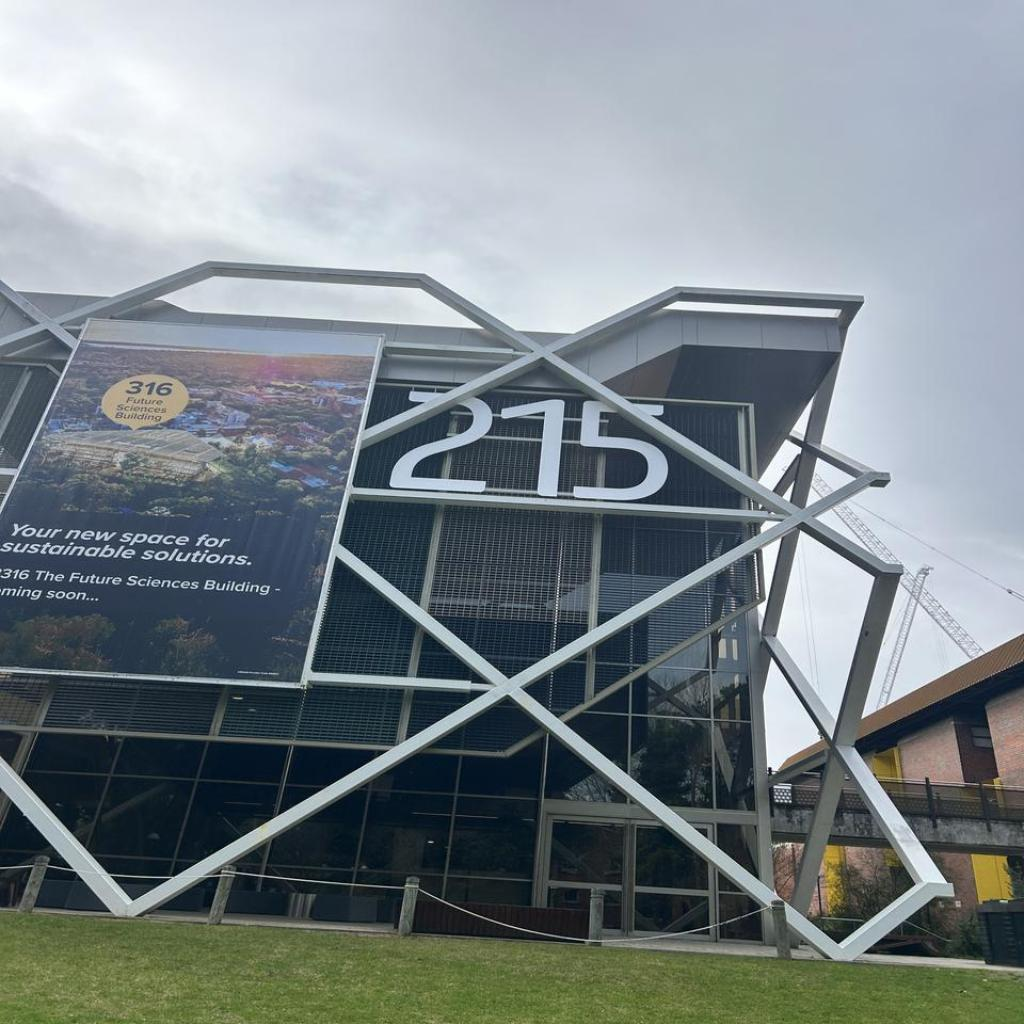BuildingCodes: (388, 387, 670, 503)
